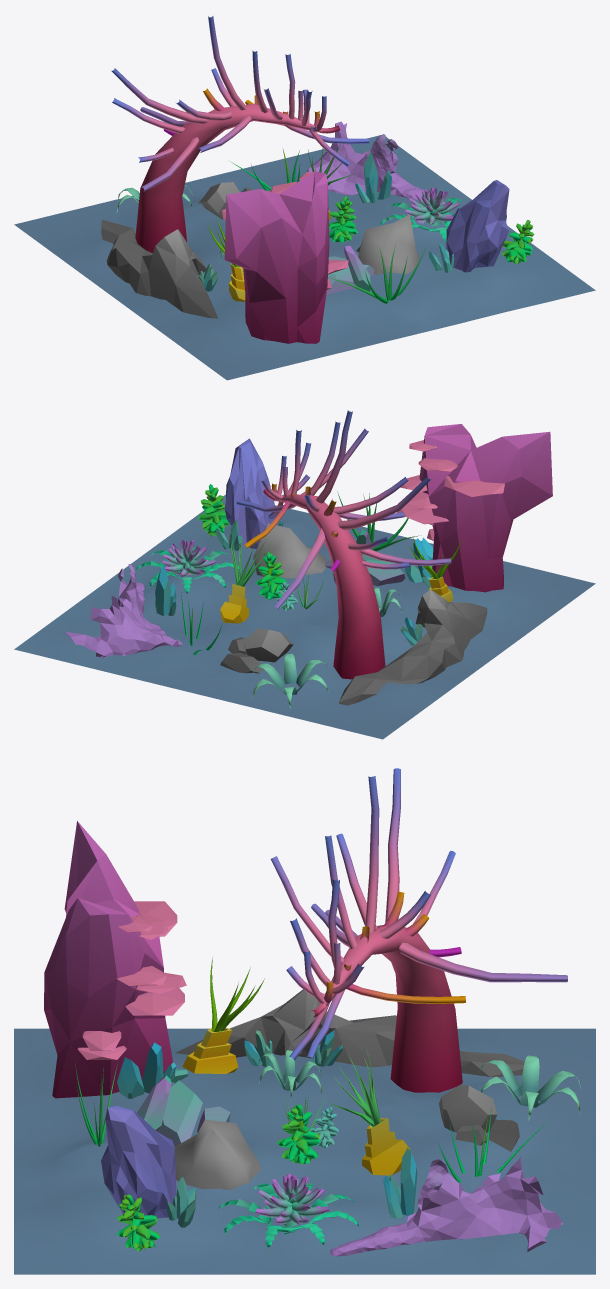
Rendered from Underwater_v3.gltf.
3 views of the same model, one above another, from view 1: azimuth 30°, elevation 25°; view 2: azimuth 150°, elevation 25°; view 3: azimuth 270°, elevation 25° (orthographic). The views are drawn at different scales.
Visible parts, largest first — view 1: Plane.002; view 2: Plane.002; view 3: Plane.002.
Boxes of the visible parts, x1,y1,x2,y2 form: Plane.002: (14, 16, 595, 380); Plane.002: (14, 410, 595, 739); Plane.002: (14, 768, 595, 1274).
Bounding box in the file's own units: 39.78 × 25.48 × 39.79.
Materials: 1 (1 with a texture image).
